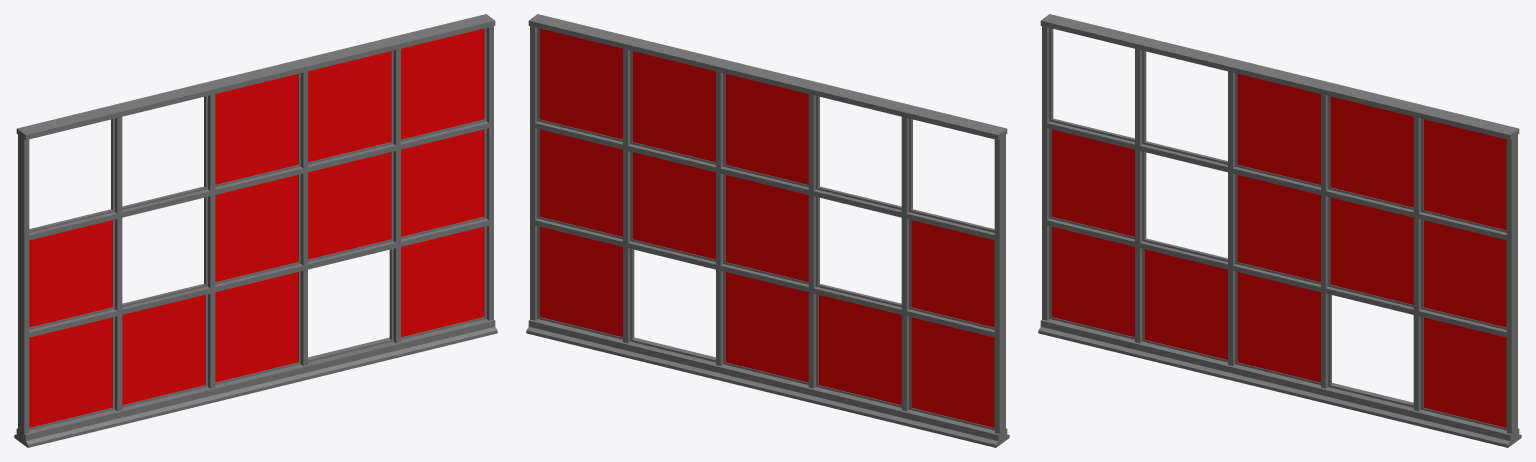
Rendered from Window02_Broken02.fbx.
3 views of the same model, side by side, from view 1: azimuth 30°, elevation 25°; view 2: azimuth 150°, elevation 25°; view 3: azimuth 330°, elevation 25° (orthographic).
Parts seen in each view (by area): view 1: Window02_Broken02; view 2: Window02_Broken02; view 3: Window02_Broken02.
Boxes of the visible parts, bbox=[...] form: Window02_Broken02: bbox=[14, 14, 497, 447]; Window02_Broken02: bbox=[526, 14, 1009, 447]; Window02_Broken02: bbox=[1038, 14, 1521, 447].
Bounding box in the file's own units: 240 × 152 × 12.
